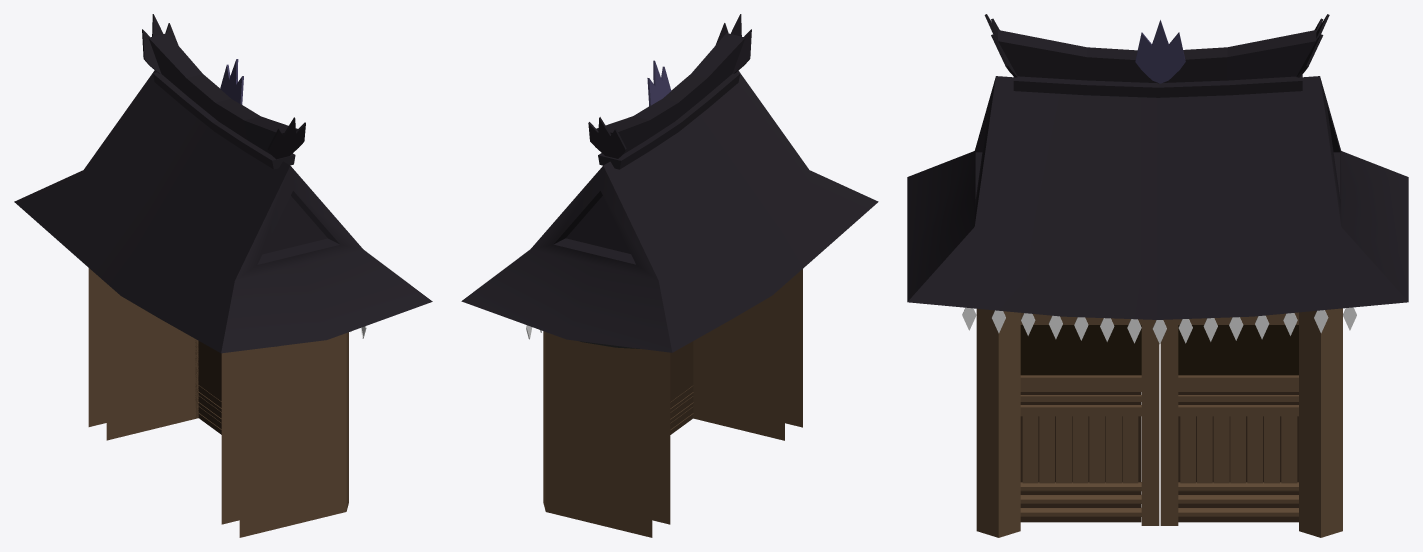
Rendered from EnterDoor.fbx.
3 views of the same model, side by side, from view 1: azimuth 30°, elevation 25°; view 2: azimuth 150°, elevation 25°; view 3: azimuth 270°, elevation 25° (orthographic). The views are drawn at different scales.
Parts seen in each view (by area): view 1: Cube.128; view 2: Cube.128; view 3: Cube.128.
Boxes of the visible parts, x1,y1,x2,y2 form: Cube.128: (14,14,432,537); Cube.128: (461,14,878,537); Cube.128: (907,14,1408,537).
Bounding box in the file's own units: 1134 × 2075 × 1919.
